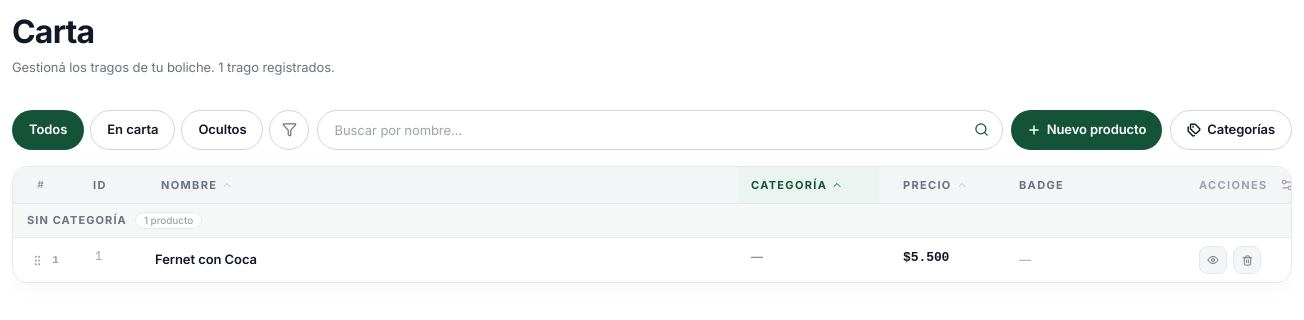
Test case: CartaSection › confirma el DELETE a la API cuando expira la ventana de Deshacer
The image size is (1304, 320).
Expected: the text "Fernet con Coca" is shown, [155, 251, 257, 267]
Click the button titled "Eliminar". click: (1247, 260)
box: [1233, 246, 1261, 274]
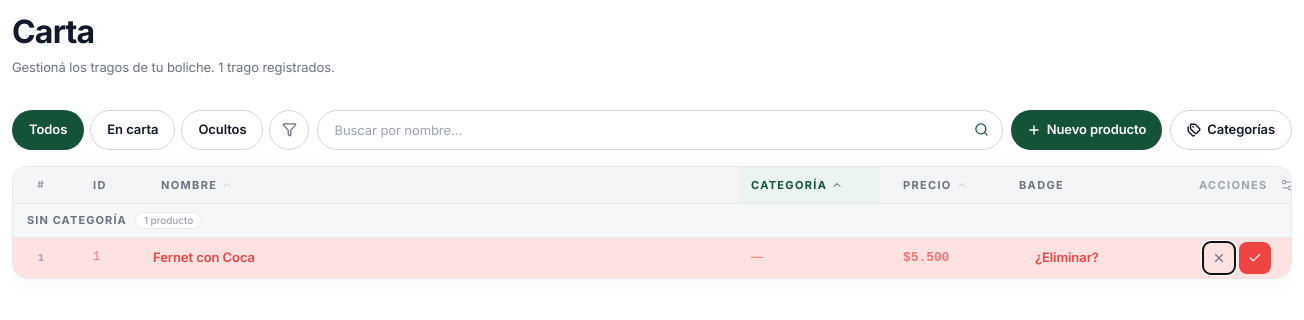
Click the button named "Confirmar". click: (1255, 258)
box: [1239, 242, 1271, 274]
Wait 5000 ms
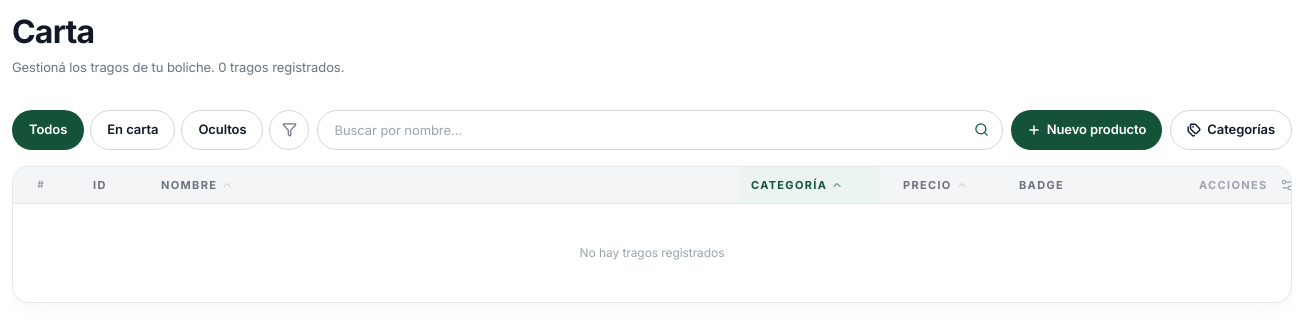
Result: the text "Fernet con Coca" is gone
